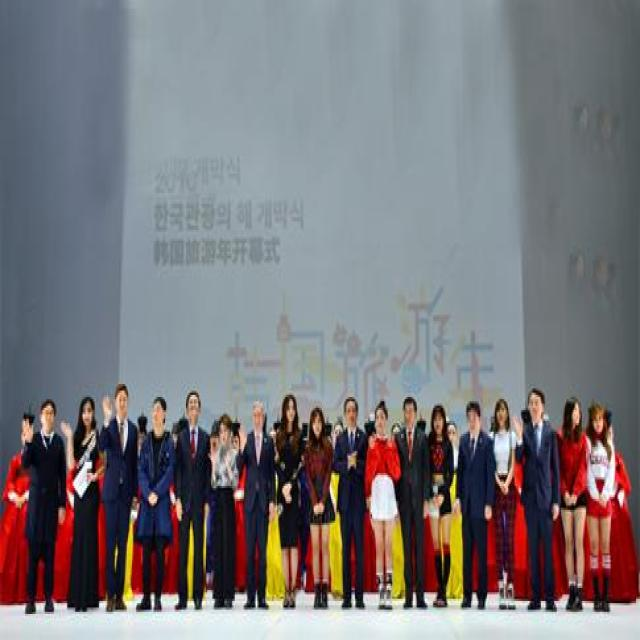non-fight: (514, 390, 560, 610), (21, 401, 67, 614), (97, 387, 137, 610), (64, 400, 103, 612), (135, 401, 174, 612), (172, 394, 210, 610), (457, 400, 495, 610), (394, 400, 431, 608), (582, 404, 618, 612), (242, 401, 277, 610), (364, 406, 400, 609), (333, 398, 367, 610), (555, 401, 589, 612), (276, 400, 308, 610), (488, 400, 520, 610), (302, 408, 334, 609), (426, 406, 456, 609), (209, 416, 241, 606)
